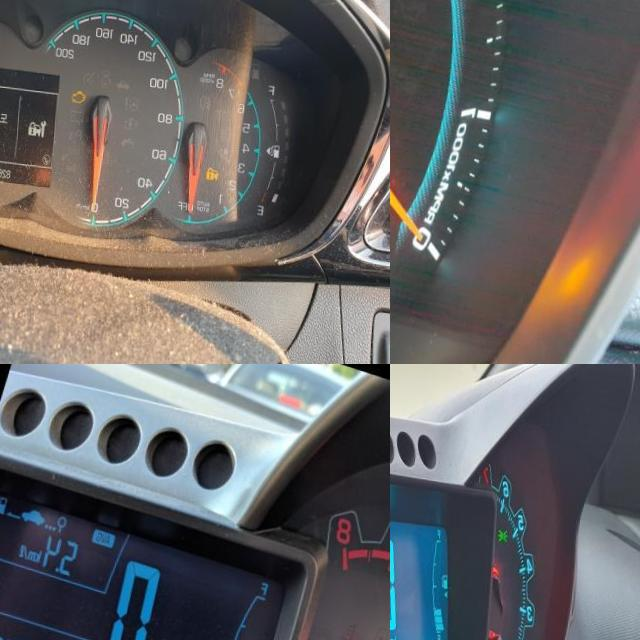SideLamp: (502, 520, 513, 536)
